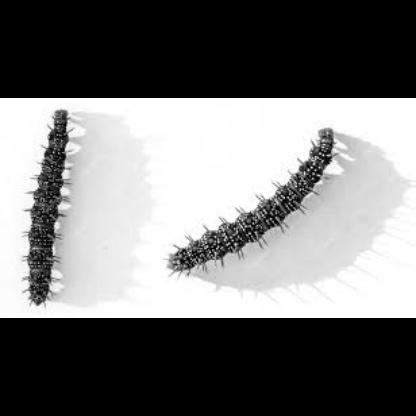oruga: (163, 128, 337, 276), (26, 106, 68, 308)
